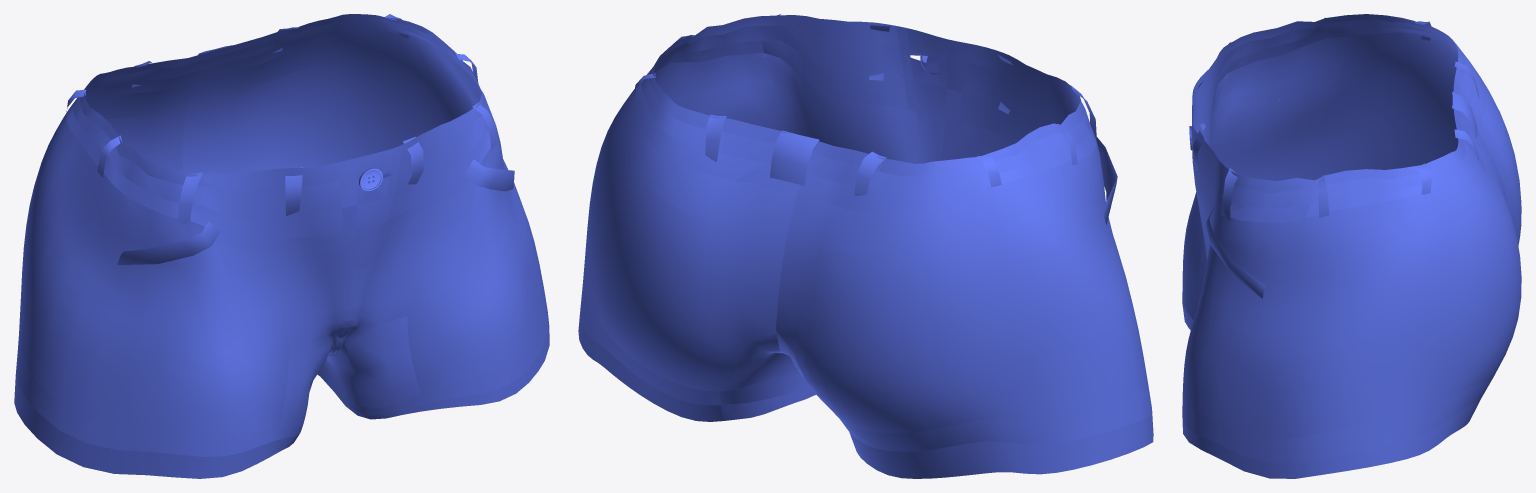
File: booty_shorts.glb
3 views of the same model, side by side, from view 1: azimuth 30°, elevation 25°; view 2: azimuth 150°, elevation 25°; view 3: azimuth 270°, elevation 25° (orthographic). The views are drawn at different scales.
Visible parts, largest first — view 1: all; view 2: all; view 3: all.
Boxes of the visible parts, <box> form: all: <box>14,14,549,478</box>; all: <box>578,14,1153,478</box>; all: <box>1182,14,1521,478</box>.
Size of the model in its own units: 0.4873 by 0.288 by 0.2983.
